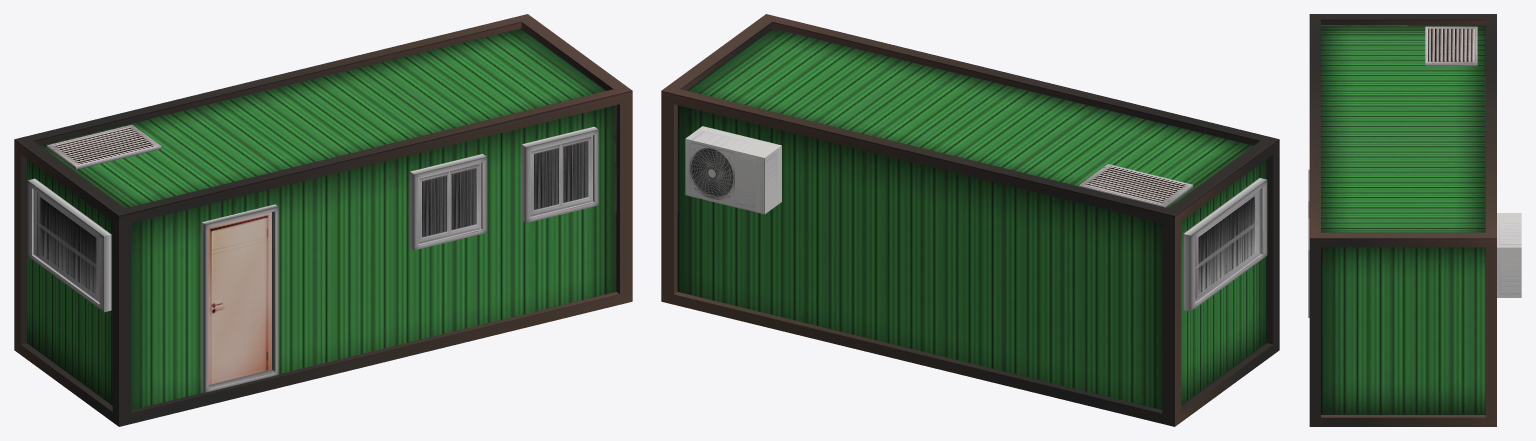
Rendered from SM_CampCabin_AltClosed.fbx.
3 renders of one model, left to right at view 1: azimuth 30°, elevation 25°; view 2: azimuth 150°, elevation 25°; view 3: azimuth 270°, elevation 25°, orthographic. The views are drawn at different scales.
Parts seen in each view (by area): view 1: SM_CampCabin_AltClosed; view 2: SM_CampCabin_AltClosed; view 3: SM_CampCabin_AltClosed.
Boxes of the visible parts, x1,y1,x2,y2 form: SM_CampCabin_AltClosed: [14, 14, 632, 426]; SM_CampCabin_AltClosed: [661, 14, 1279, 426]; SM_CampCabin_AltClosed: [1308, 14, 1521, 426].
Bounding box in the file's own units: 2.66 × 6.64 × 2.6.
Materials: 1 (1 with a texture image).
